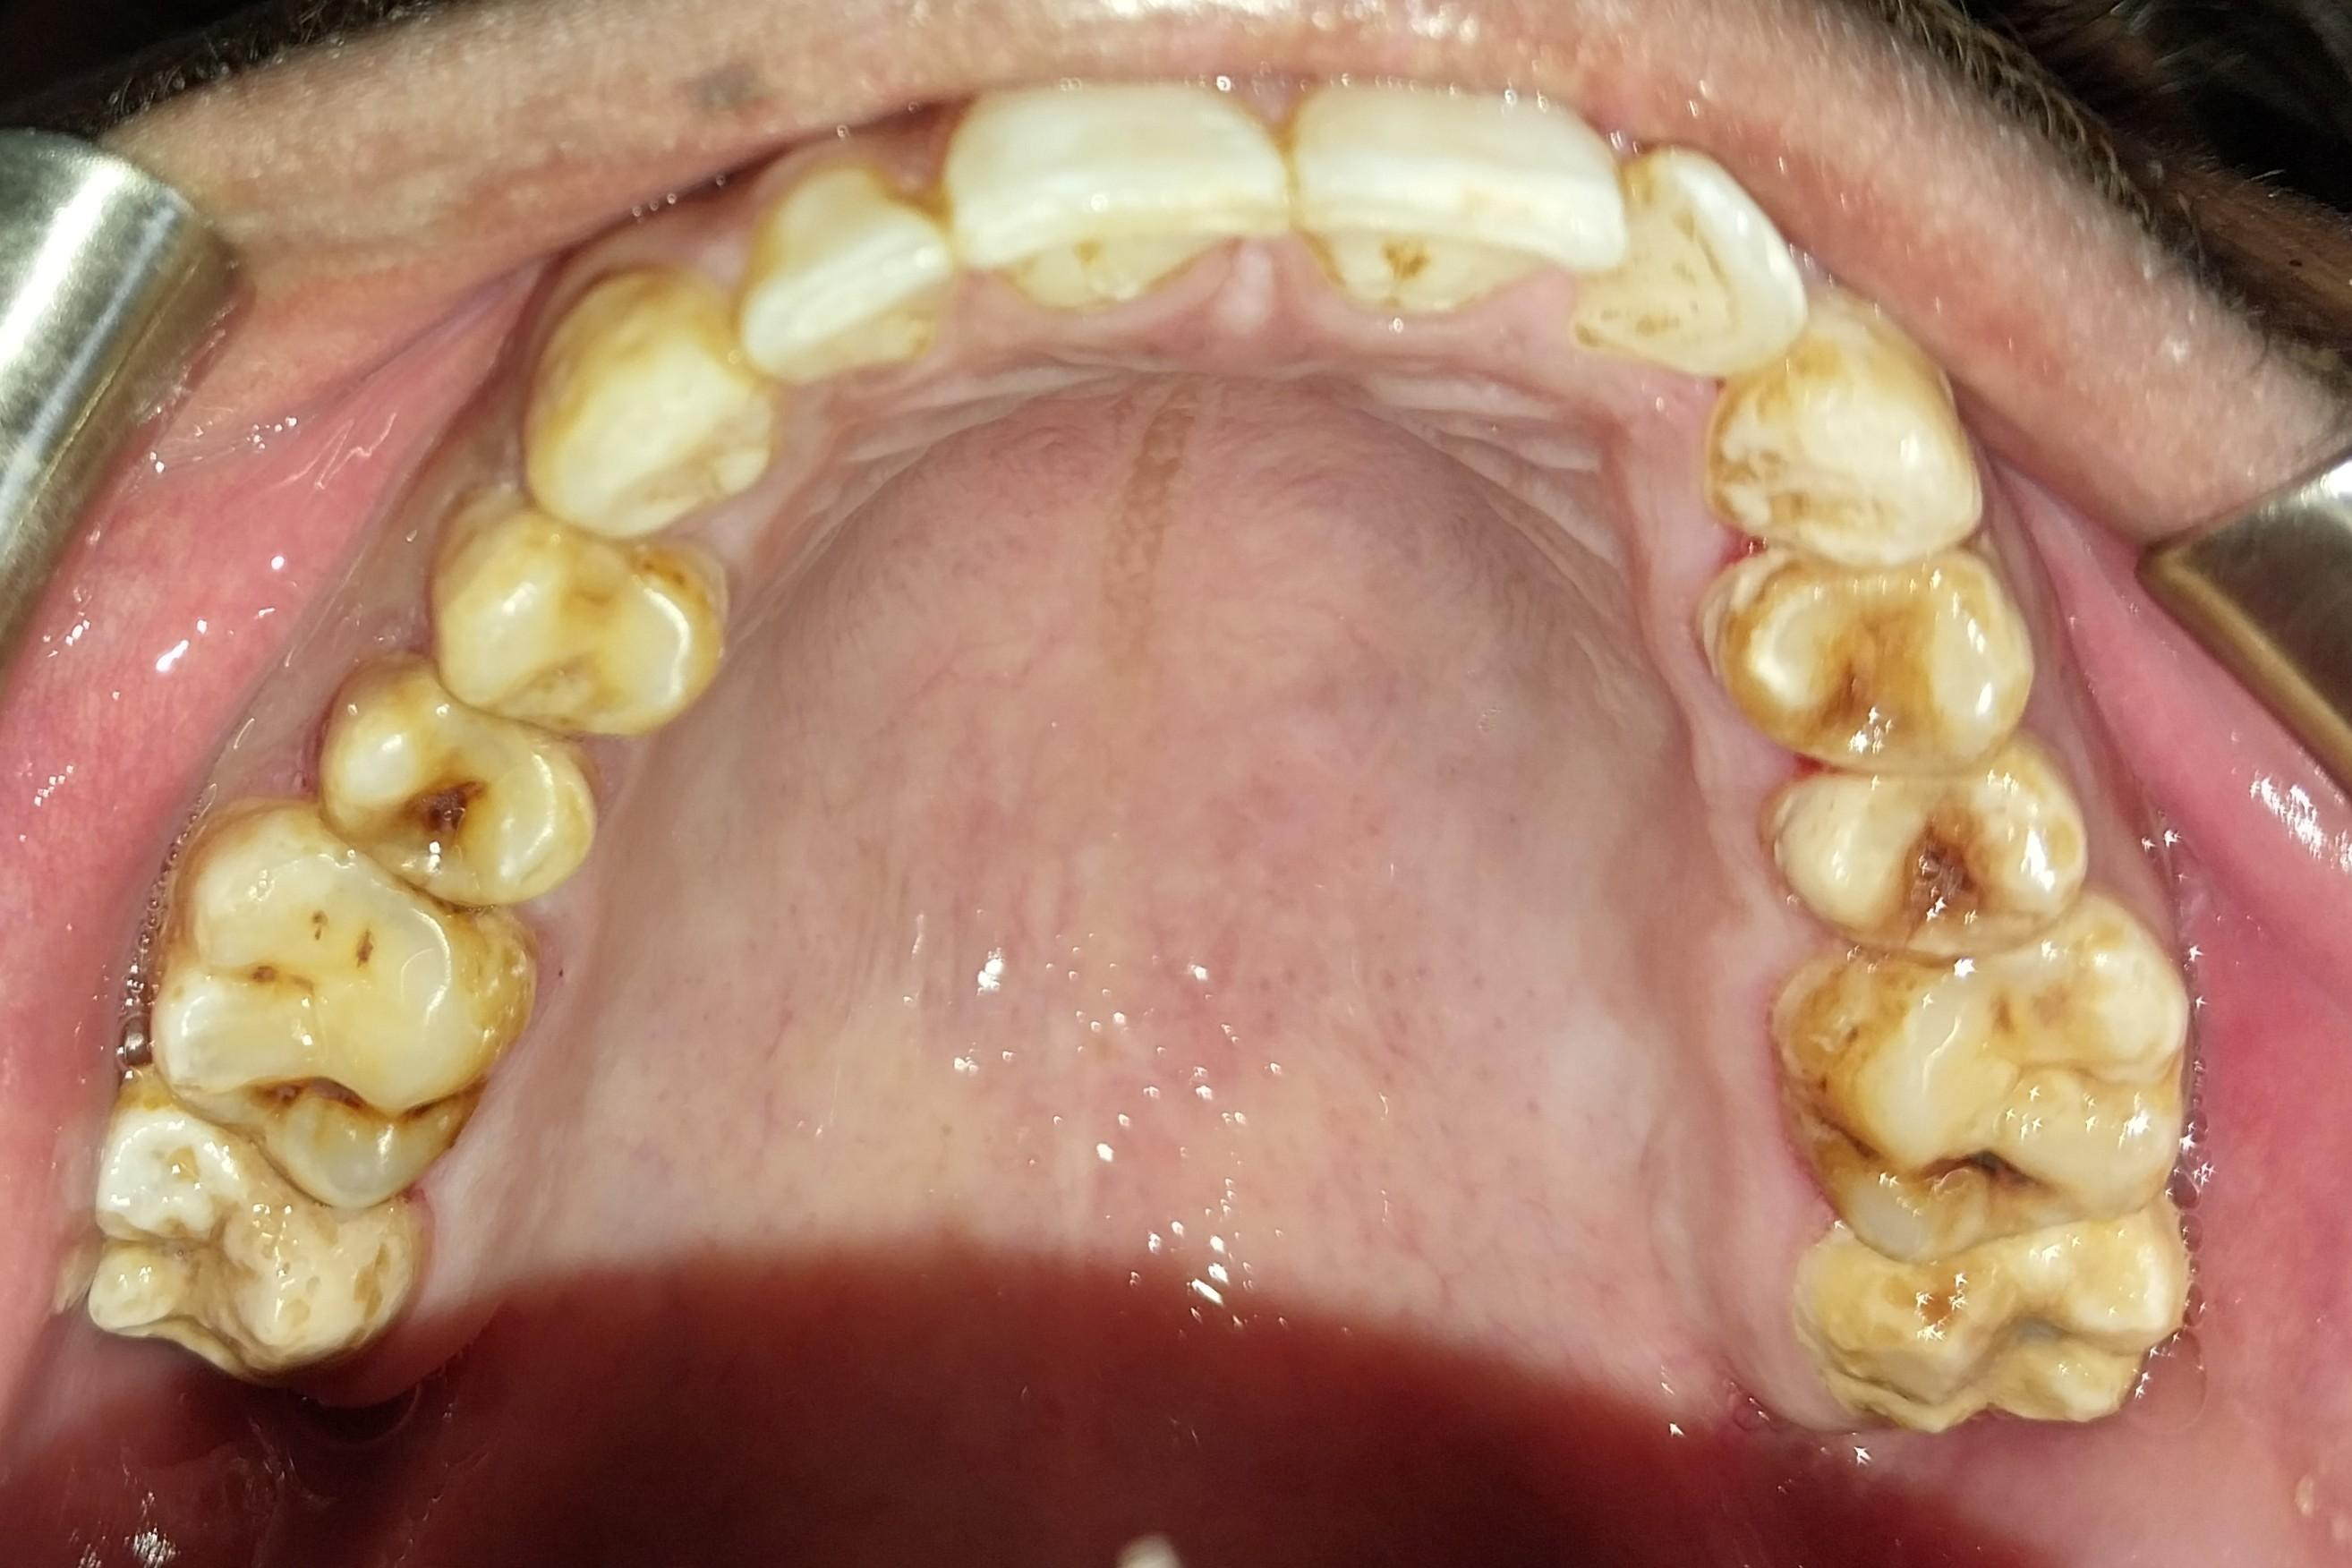D: (153, 795, 541, 1209), (1827, 914, 2193, 1258), (313, 667, 601, 911), (1759, 759, 2095, 951)
